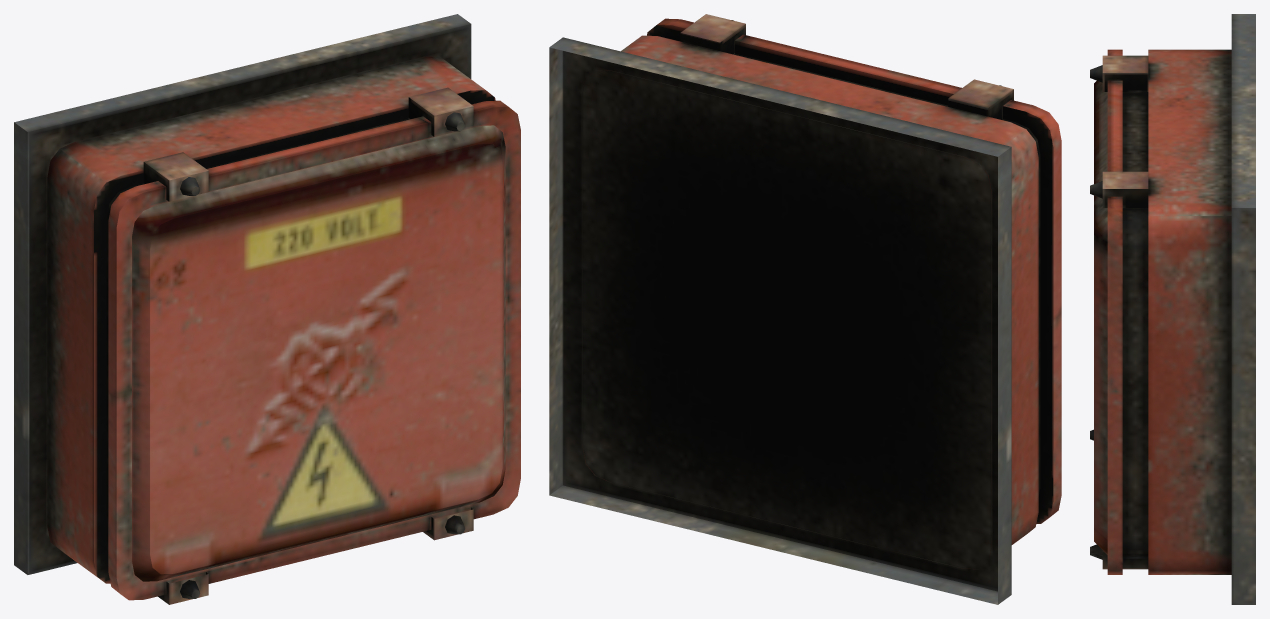
The model's file is DoorMainMeter.FBX.
The picture shows the model from 3 angles, left to right: view 1: azimuth 30°, elevation 25°; view 2: azimuth 150°, elevation 25°; view 3: azimuth 270°, elevation 25°; orthographic projection. The views are drawn at different scales.
Visible parts, largest first — view 1: DoorMainMeter; view 2: DoorMainMeter; view 3: DoorMainMeter.
Boxes of the visible parts, box(x1,y1,x2,y2) form: DoorMainMeter: box(14, 14, 520, 604); DoorMainMeter: box(549, 14, 1061, 604); DoorMainMeter: box(1090, 14, 1255, 604).
Size of the model in its own units: 42.25 by 40.32 by 15.25.
